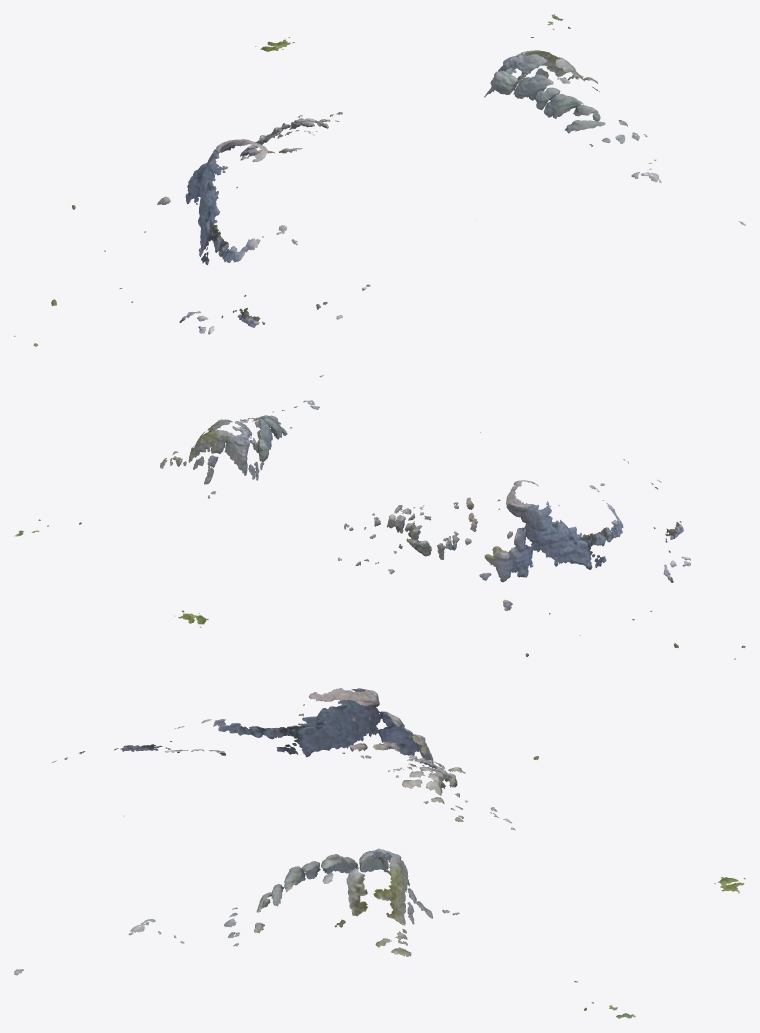
File: tors_green.glb
The picture shows the model from 3 angles, top to bottom: view 1: azimuth 30°, elevation 25°; view 2: azimuth 150°, elevation 25°; view 3: azimuth 270°, elevation 25°; orthographic projection. The views are drawn at different scales.
Parts seen in each view (by area): view 1: prefab; view 2: prefab; view 3: prefab.
Part boxes in pixels (box(x1,y1,x2,y2)): prefab: box(14, 14, 745, 346); prefab: box(14, 375, 745, 659); prefab: box(14, 688, 745, 1018).
Size of the model in its own units: 296 by 59.57 by 239.
Materials: 1 (1 with a texture image).
